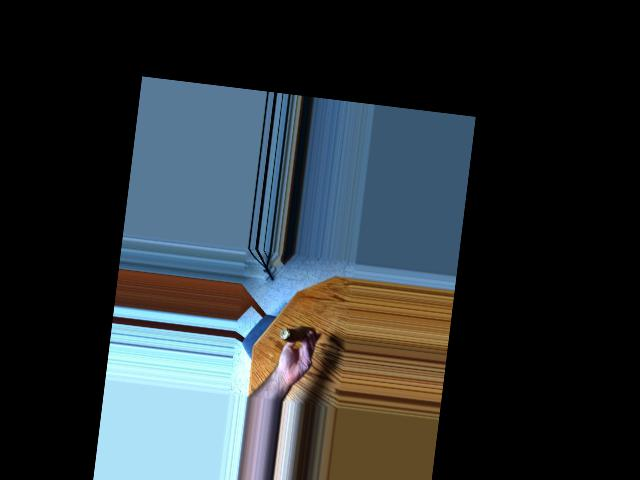sweet_potato: (273, 321, 318, 354)
